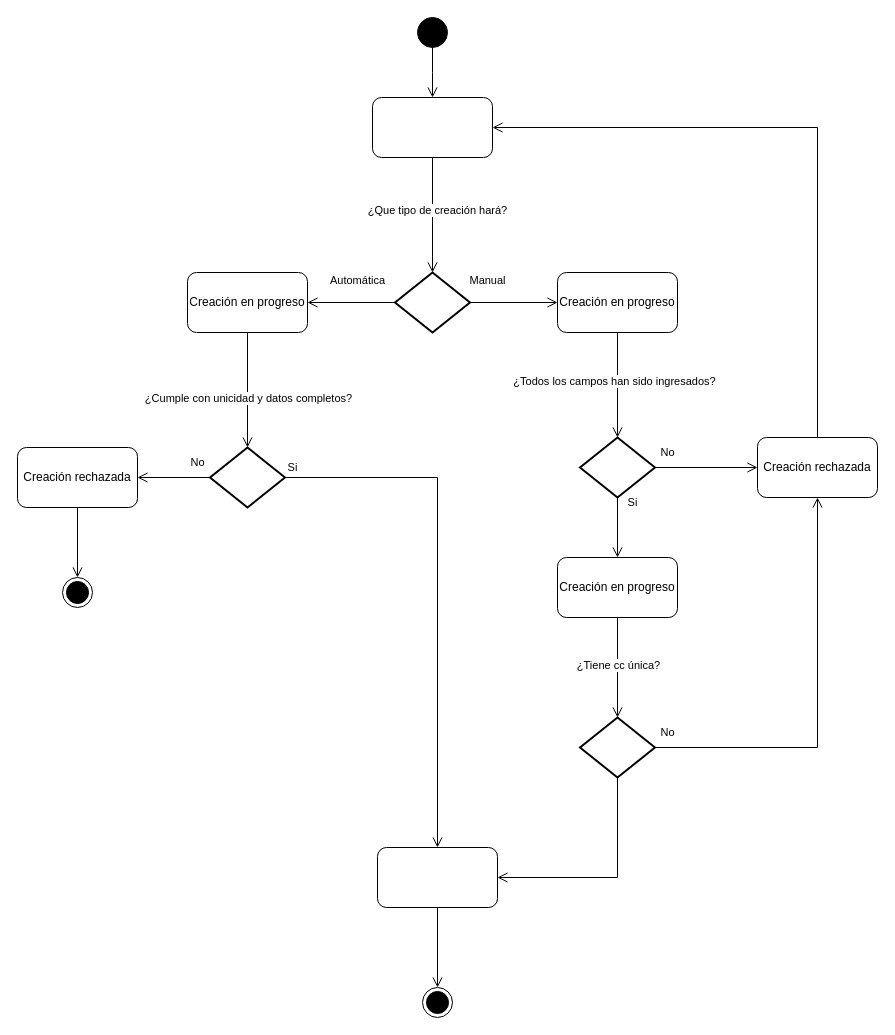
This 895x1035 diagram has some shape labels left out. Each missing label, with the centre of its shape:
Solicitud de creación: point 432,127
Usuario Creado: point 437,877
